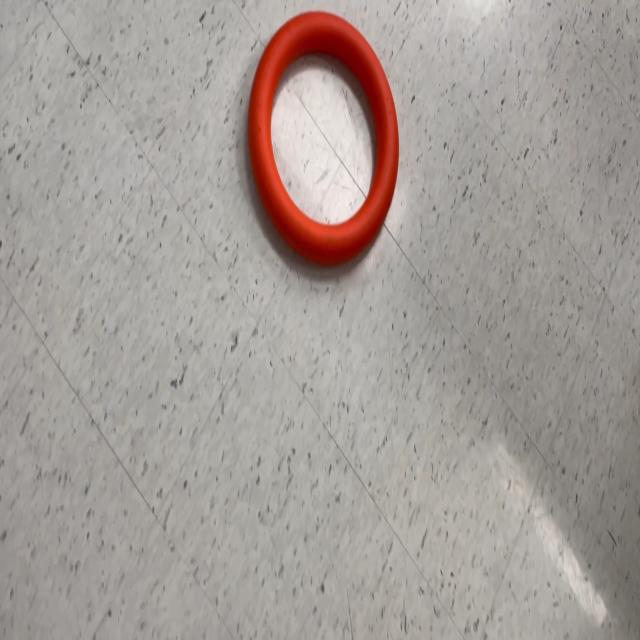note: (247, 11, 401, 267)
